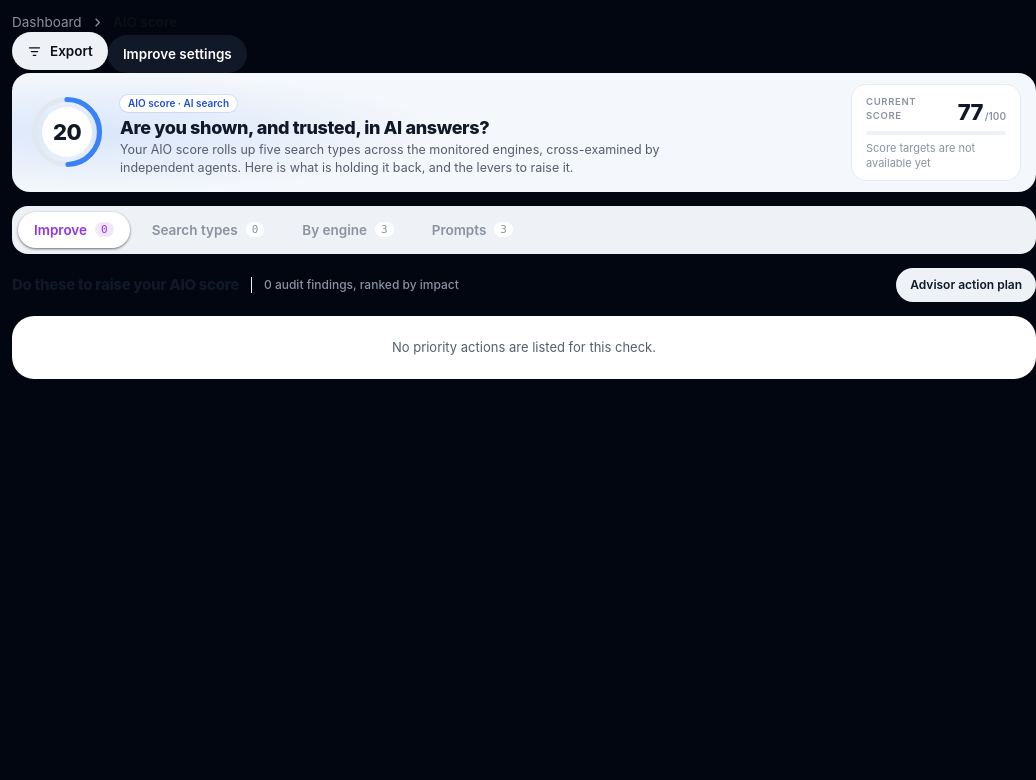
ProjectAeoPage (approved AIO detail) › renders the project's prompts grouped under their scored search types
Click the tab "Prompts 3": (472, 230) [416,212,529,248]
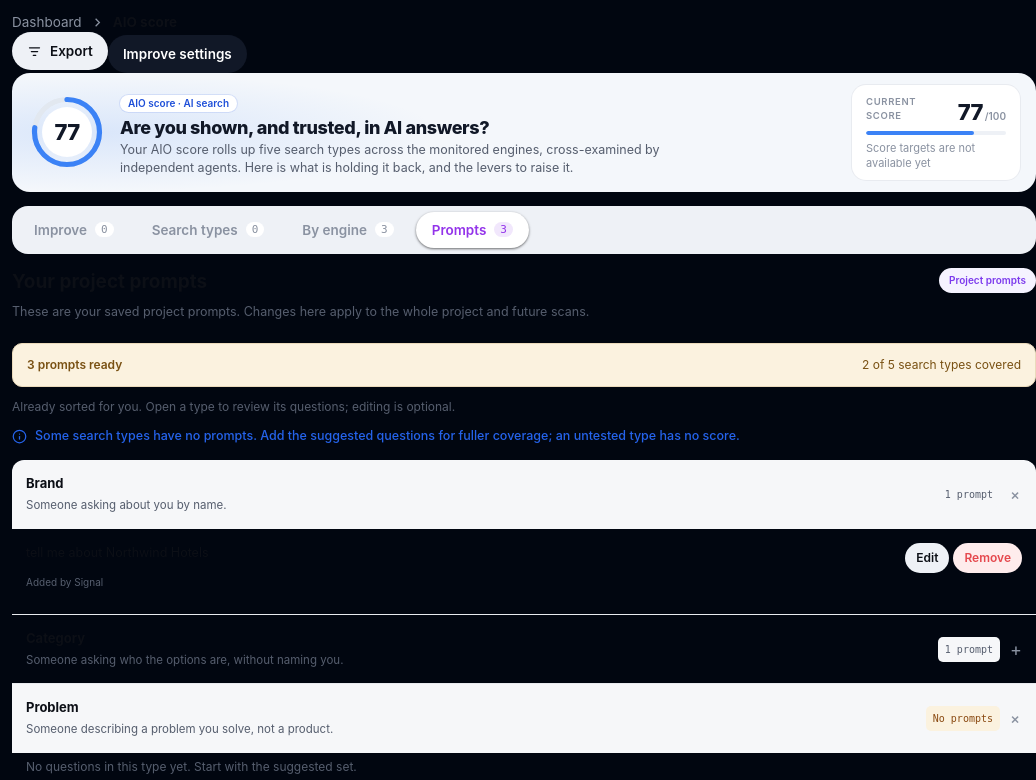
Now the text "Project prompts" is shown, box [939,268,1035,293]
Now the text "No prompts" is shown, box [926,706,1000,731]
Now the text "Added by Signal" is shown, box [26,576,103,588]
